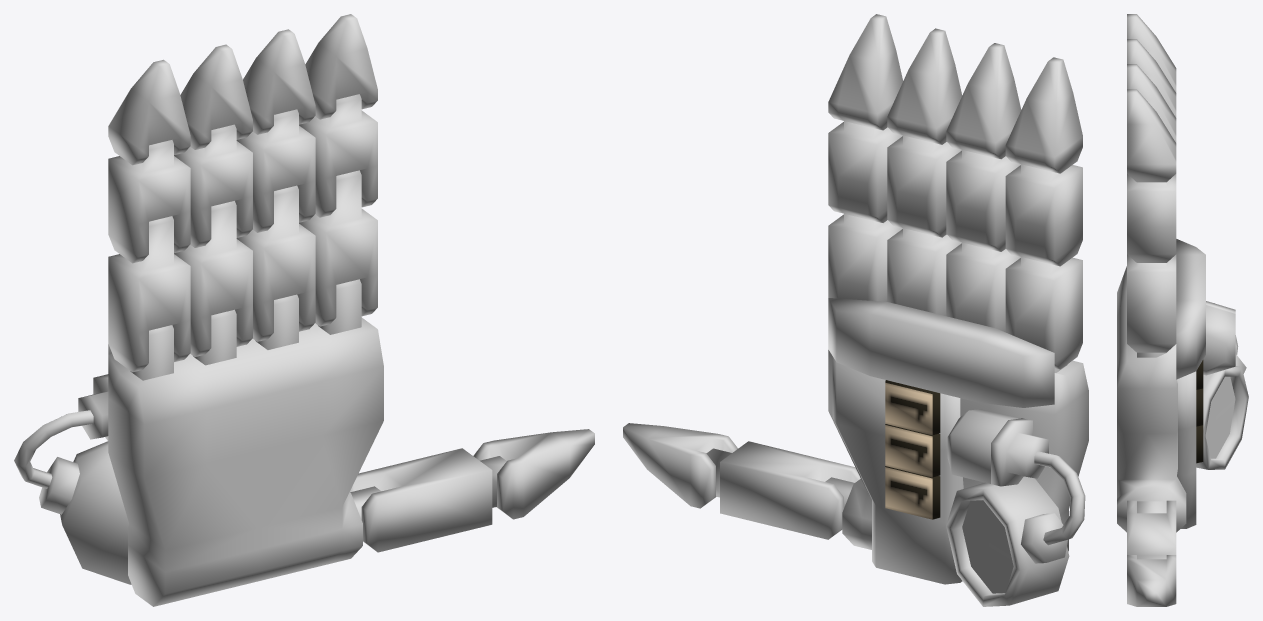
File: LeftHand.fbx
3 renders of one model, left to right at view 1: azimuth 30°, elevation 25°; view 2: azimuth 150°, elevation 25°; view 3: azimuth 270°, elevation 25°, orthographic. The views are drawn at different scales.
Parts seen in each view (by area): view 1: Palma, Medidor, Falange, Falange01.001, Falange02.001, Falange01, Falange01.002, Falange01.003, Punta.004, Falange02, Falange02.002, Falange02.003 (+8 smaller); view 2: Palma, Medidor, Falange, Falange02.001, Falange01.001, Punta, Falange02.003, Falange02.002, Falange02, Punta.001, Punta.003, Punta.002 (+9 smaller); view 3: Palma, Falange01, Falange02, Punta.003, Medidor, Falange, Punta.004, Frasco, Panel, Punta.002, Punta.001, Punta (+4 smaller).
Part boxes in pixels (<box>): Palma: <box>108,317,383,606</box>; Medidor: <box>14,375,131,584</box>; Falange: <box>350,448,506,552</box>; Falange01.001: <box>108,216,190,372</box>; Falange02.001: <box>108,140,190,263</box>; Falange01: <box>299,170,377,326</box>; Falange01.002: <box>174,201,252,356</box>; Falange01.003: <box>236,185,315,341</box>; Punta.004: <box>473,429,594,519</box>; Falange02: <box>299,94,377,217</box>; Falange02.002: <box>174,124,252,247</box>; Falange02.003: <box>236,109,315,232</box>; Palma: <box>828,298,1088,584</box>; Medidor: <box>946,418,1085,606</box>; Falange: <box>706,441,860,539</box>; Falange02.001: <box>1005,164,1082,266</box>; Falange01.001: <box>1005,257,1082,369</box>; Punta: <box>1005,57,1082,173</box>; Falange02.003: <box>887,135,961,237</box>; Falange02.002: <box>946,150,1020,251</box>; Falange02: <box>828,121,902,222</box>; Punta.001: <box>946,43,1021,159</box>; Punta.003: <box>828,14,902,130</box>; Punta.002: <box>887,28,962,144</box>; Palma: <box>1117,239,1205,532</box>; Falange01: <box>1127,254,1176,352</box>; Falange02: <box>1127,174,1176,262</box>; Punta.003: <box>1127,89,1176,182</box>; Medidor: <box>1196,301,1248,469</box>; Falange: <box>1127,500,1176,559</box>; Punta.004: <box>1127,555,1176,606</box>; Frasco: <box>1203,305,1235,375</box>; Panel: <box>1205,376,1235,458</box>; Punta.002: <box>1127,64,1176,142</box>; Punta.001: <box>1127,39,1176,117</box>; Punta: <box>1127,14,1176,92</box>.
Size of the model in its own units: 159 by 156 by 41.64.
